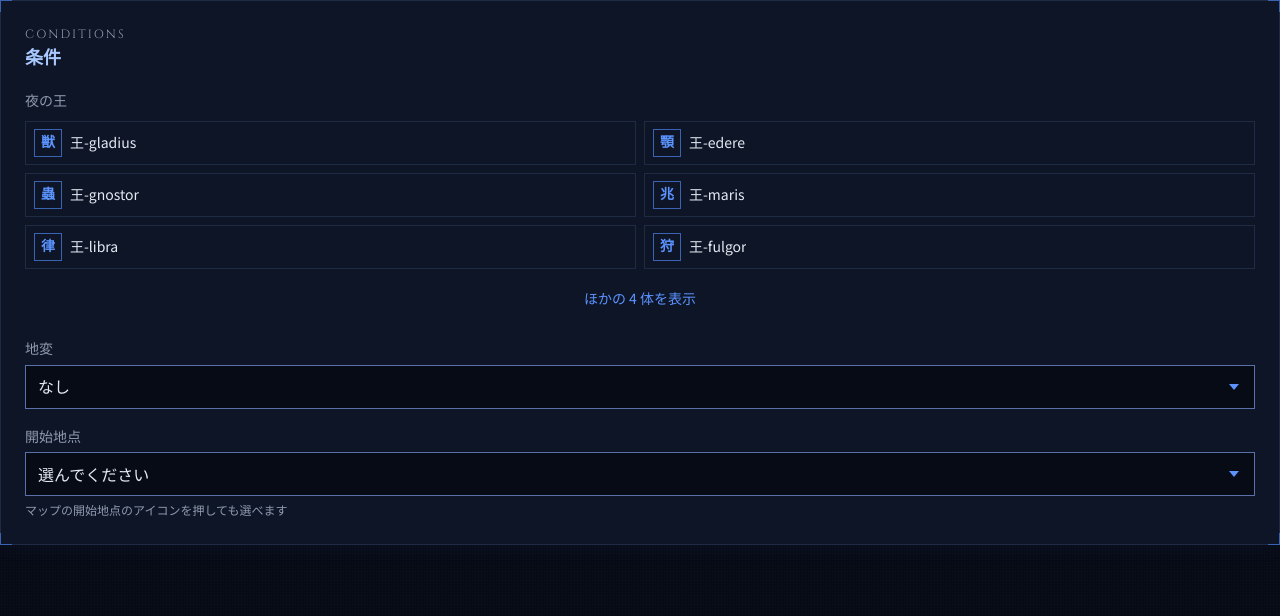
Scenario: 条件のパネル(パターン検索 3.1) › 夜の王は初めに 6 体を出し、「ほかの 4 体を表示」で残りを出す
Click the button "ほかの 4 体を表示" at coordinates (640, 299), box 25,277 -> 1255,321
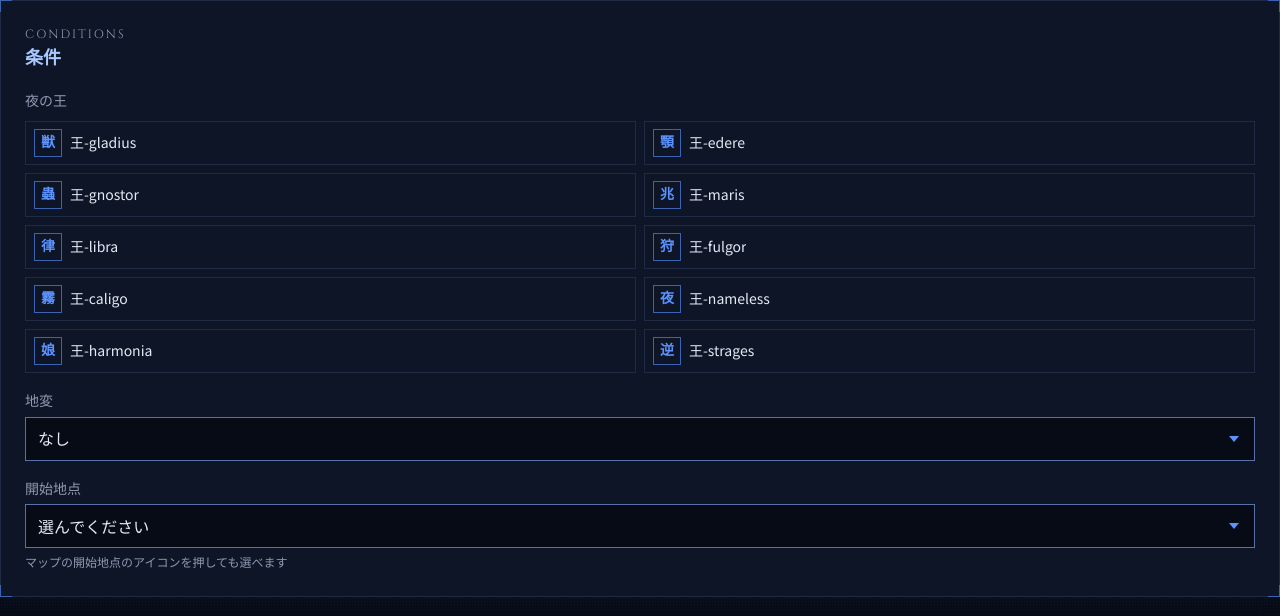
Expected: the number of buttons is 10
